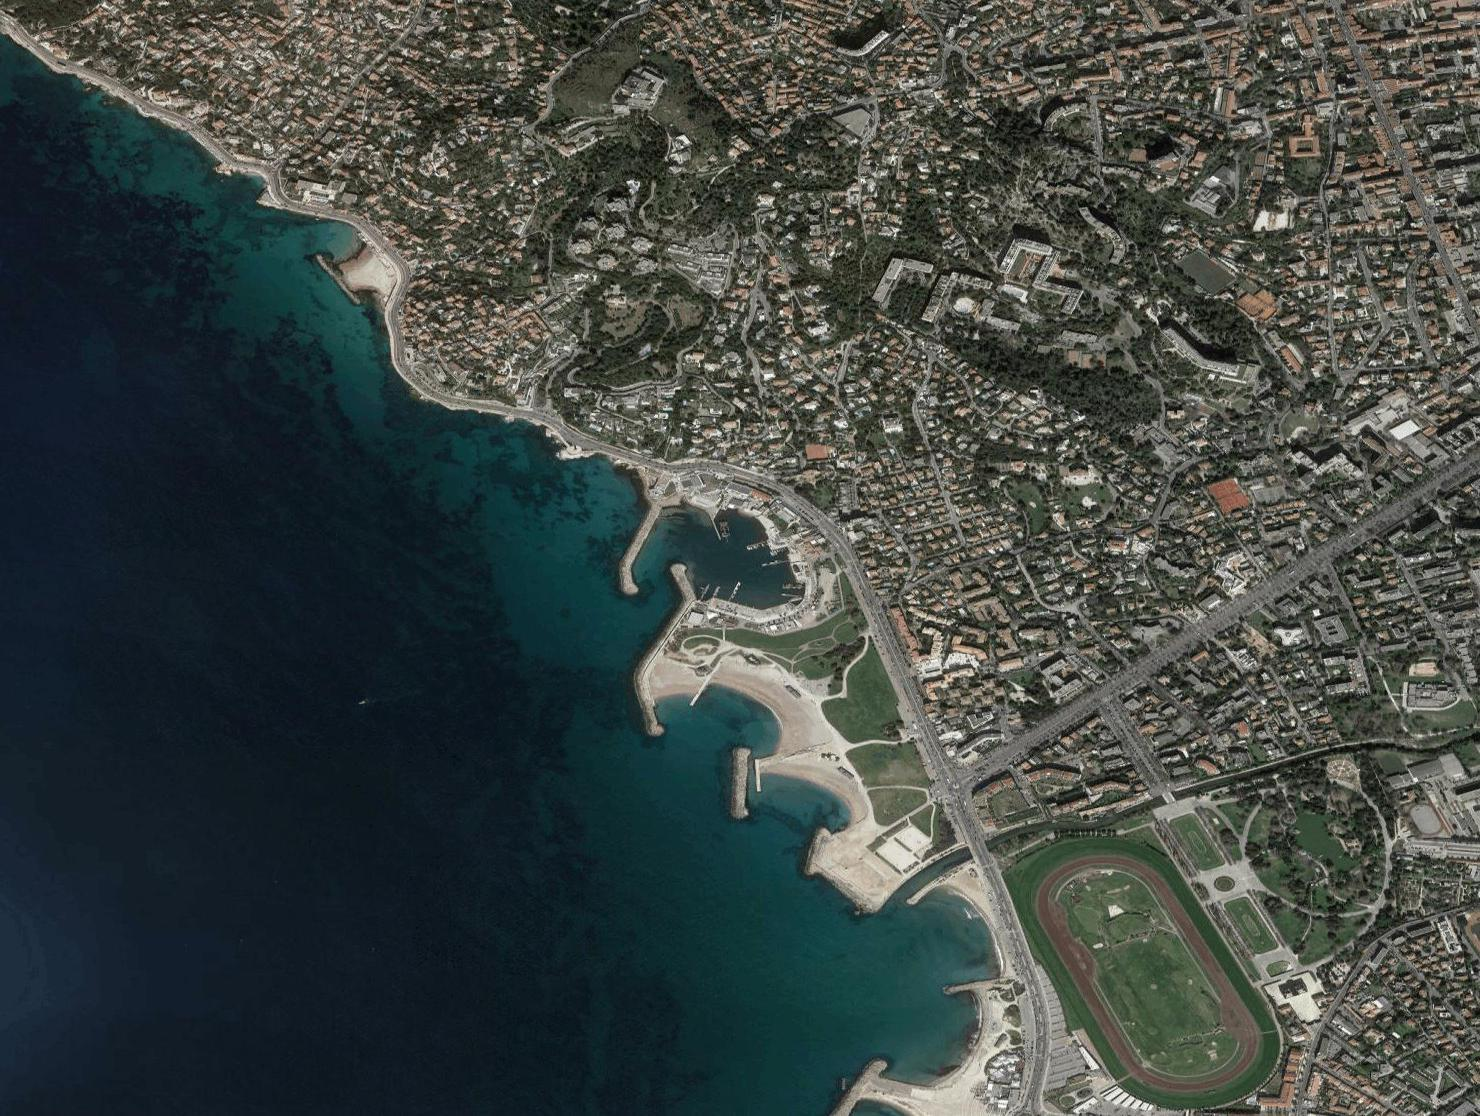harbor: (571, 467, 843, 686)
motorway: (1001, 923, 1058, 1116), (889, 667, 962, 796), (944, 794, 1017, 923), (834, 549, 903, 680), (761, 471, 846, 551), (551, 411, 656, 467), (138, 96, 227, 159), (225, 149, 311, 213), (45, 52, 137, 109), (439, 382, 552, 427), (655, 450, 764, 491), (311, 193, 384, 253), (387, 331, 441, 400), (378, 249, 412, 329), (1, 7, 46, 61)
